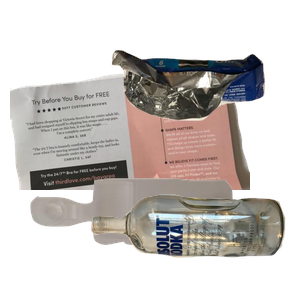glass: (88, 192, 300, 300)
paper: (10, 61, 250, 241)
plastic: (28, 176, 253, 300)
trash: (109, 47, 300, 160)
